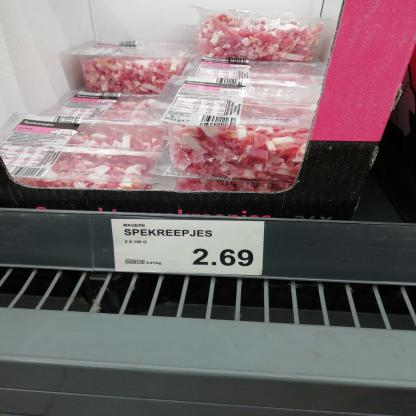prtg: (112, 219, 266, 277)
